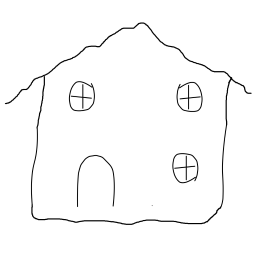closed_window: (163, 145, 208, 192), (170, 73, 213, 120), (65, 77, 105, 120)
door: (70, 150, 129, 216)
single_line_roof: (3, 14, 260, 109)
wall: (26, 69, 230, 231)
